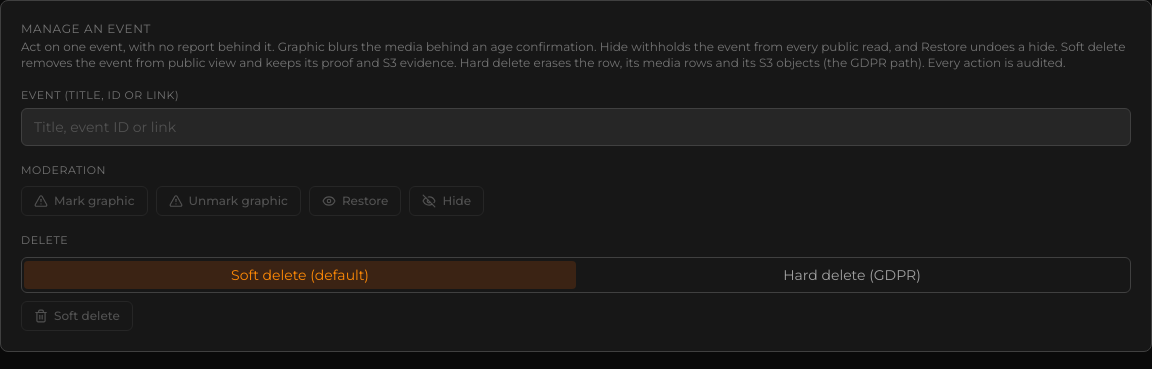
Test: <EventActionsPanel> › tells apart two events with the same title by date and author
This screenshot has width=1152, height=369.
Type "depot" into the dropdown labelled "Event (title, ID or link)" at (576, 126), box [21,108,1131,146]
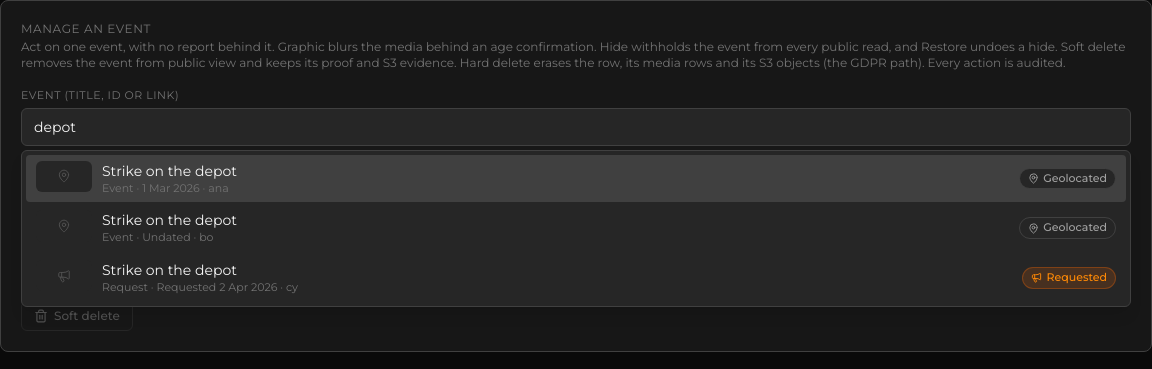
Now the option "Strike on the depot Event · 1 Mar 2026 · ana Geolocated" is shown, box [26,154,1126,202]
Now the 3rd option is shown, box [26,254,1126,302]
Click the option "Strike on the depot Event · Undated · bo Geolocated" at (64, 226), box [26,204,1126,252]
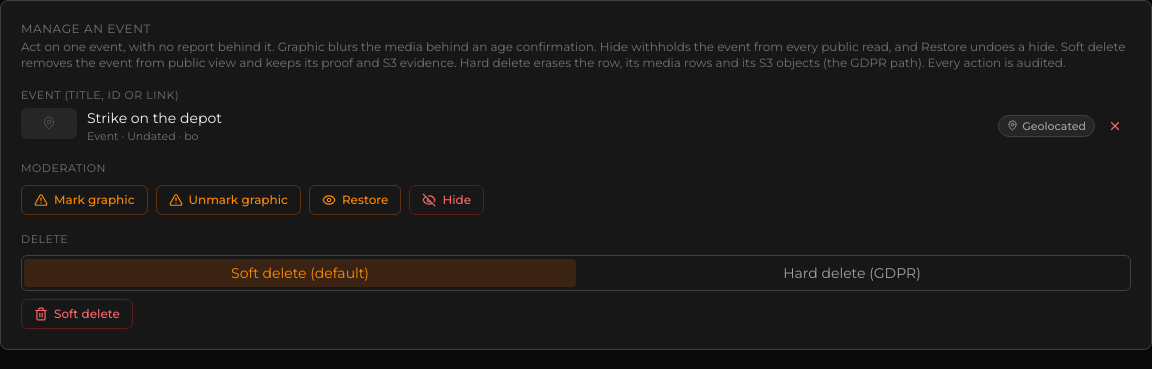
Now the button named "Remove Strike on the depot" is shown, box [1099,110,1131,142]
Now the dropdown is gone
Now the button "Mark graphic" is enabled, box [21,184,148,214]
